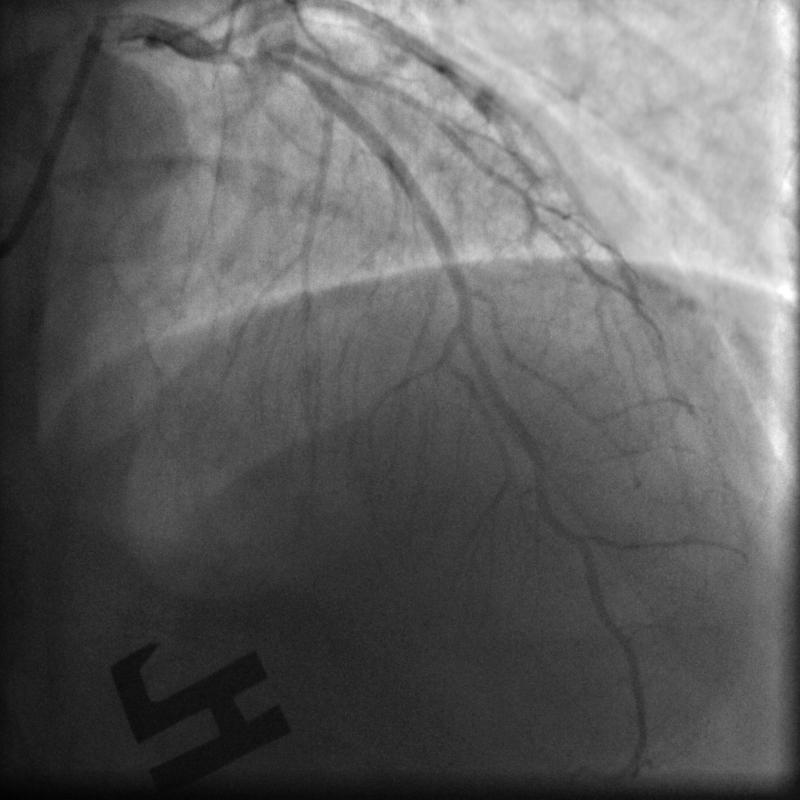Stenosis: (212, 37, 282, 71)
